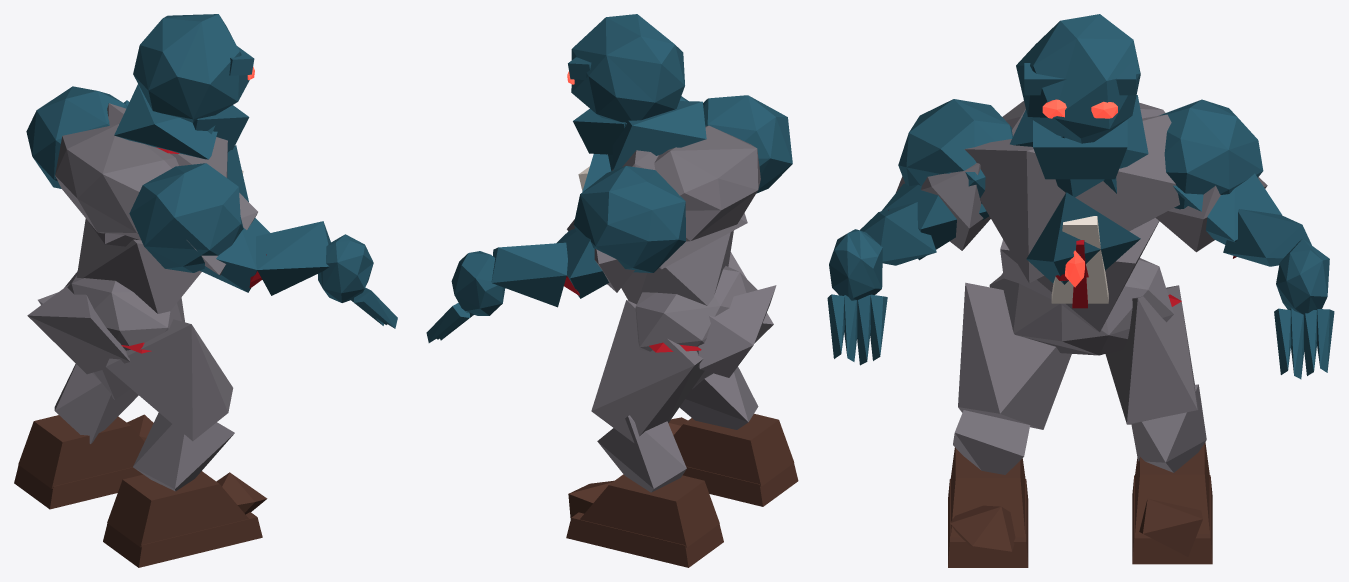
3 views of the same model, side by side, from view 1: azimuth 30°, elevation 25°; view 2: azimuth 150°, elevation 25°; view 3: azimuth 270°, elevation 25° (orthographic). The views are drawn at different scales.
Parts seen in each view (by area): view 1: torso__alpha, armR__alpha, footR__alpha, head__alpha, footL__alpha, hip__alpha, legR__alpha, armL__alpha, shinR__alpha, foreArmR__alpha, handR__alpha, shinL__alpha (+1 smaller); view 2: torso__alpha, armL__alpha, head__alpha, footL__alpha, hip__alpha, footR__alpha, legL__alpha, armR__alpha, shinL__alpha, foreArmL__alpha, handL__alpha, shinR__alpha; view 3: torso__alpha, head__alpha, armL__alpha, armR__alpha, legR__alpha, footL__alpha, footR__alpha, legL__alpha, hip__alpha, handR__alpha, handL__alpha, shinR__alpha (+3 smaller).
Part boxes in pixels (bbox=[...]): torso__alpha: bbox=[55, 84, 248, 313]; armR__alpha: bbox=[129, 163, 269, 292]; footR__alpha: bbox=[103, 471, 267, 567]; head__alpha: bbox=[133, 14, 254, 150]; footL__alpha: bbox=[14, 414, 153, 509]; hip__alpha: bbox=[27, 271, 184, 374]; legR__alpha: bbox=[106, 319, 233, 441]; armL__alpha: bbox=[26, 86, 127, 188]; shinR__alpha: bbox=[133, 412, 234, 491]; foreArmR__alpha: bbox=[256, 221, 330, 295]; handR__alpha: bbox=[318, 234, 397, 328]; shinL__alpha: bbox=[54, 364, 138, 443]; torso__alpha: bbox=[578, 101, 760, 305]; armL__alpha: bbox=[556, 166, 685, 298]; head__alpha: bbox=[567, 14, 684, 170]; footL__alpha: bbox=[566, 474, 723, 567]; hip__alpha: bbox=[635, 266, 776, 377]; footR__alpha: bbox=[668, 413, 798, 506]; legL__alpha: bbox=[591, 300, 704, 442]; armR__alpha: bbox=[703, 95, 792, 193]; shinL__alpha: bbox=[597, 415, 686, 492]; foreArmL__alpha: bbox=[491, 242, 567, 307]; handL__alpha: bbox=[426, 251, 505, 342]; shinR__alpha: bbox=[679, 367, 758, 429]; torso__alpha: bbox=[964, 95, 1179, 332]; head__alpha: bbox=[1016, 14, 1140, 193]; armL__alpha: bbox=[1155, 99, 1281, 252]; armR__alpha: bbox=[881, 99, 1012, 260]; legR__alpha: bbox=[958, 282, 1071, 429]; footL__alpha: bbox=[1132, 442, 1212, 564]; footR__alpha: bbox=[948, 447, 1028, 567]; legL__alpha: bbox=[1105, 285, 1198, 424]; hip__alpha: bbox=[989, 258, 1173, 355]; handR__alpha: bbox=[827, 229, 887, 365]; handL__alpha: bbox=[1274, 239, 1334, 379]; shinR__alpha: bbox=[953, 410, 1030, 474].
Size of the model in its own units: 1.22 by 2.3 by 1.95.
